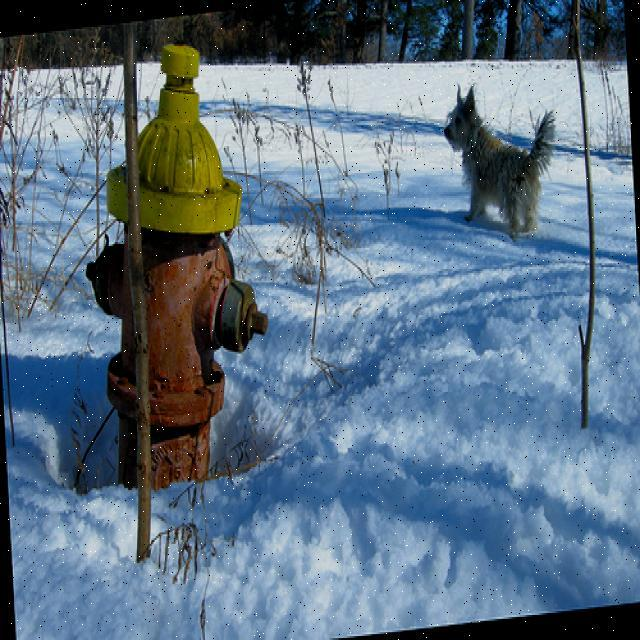fire_hydrant: (84, 46, 268, 490)
